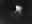person: (16, 6, 24, 17)
